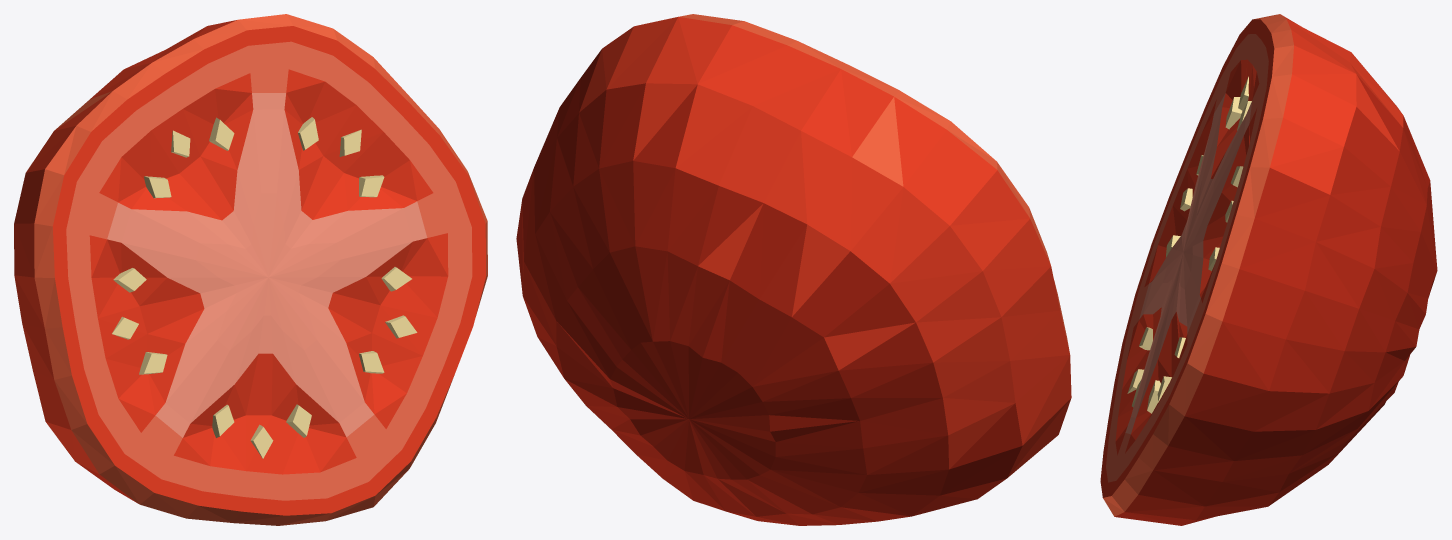
File: FMS_Veg_Tomato_Half.fbx
3 views of the same model, side by side, from view 1: azimuth 30°, elevation 25°; view 2: azimuth 150°, elevation 25°; view 3: azimuth 270°, elevation 25° (orthographic). The views are drawn at different scales.
Visible parts, largest first — view 1: Tomato_Half; view 2: Tomato_Half; view 3: Tomato_Half.
Part boxes in pixels (<box>): Tomato_Half: <box>14,14,487,525</box>; Tomato_Half: <box>516,14,1071,525</box>; Tomato_Half: <box>1100,14,1437,525</box>.
Bounding box in the file's own units: 0.0762 × 0.0735 × 0.0487.
